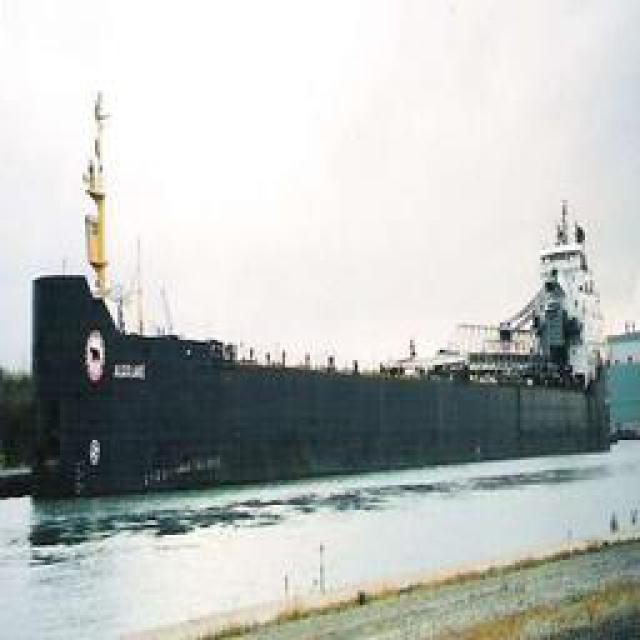Ship: (20, 76, 630, 508)
